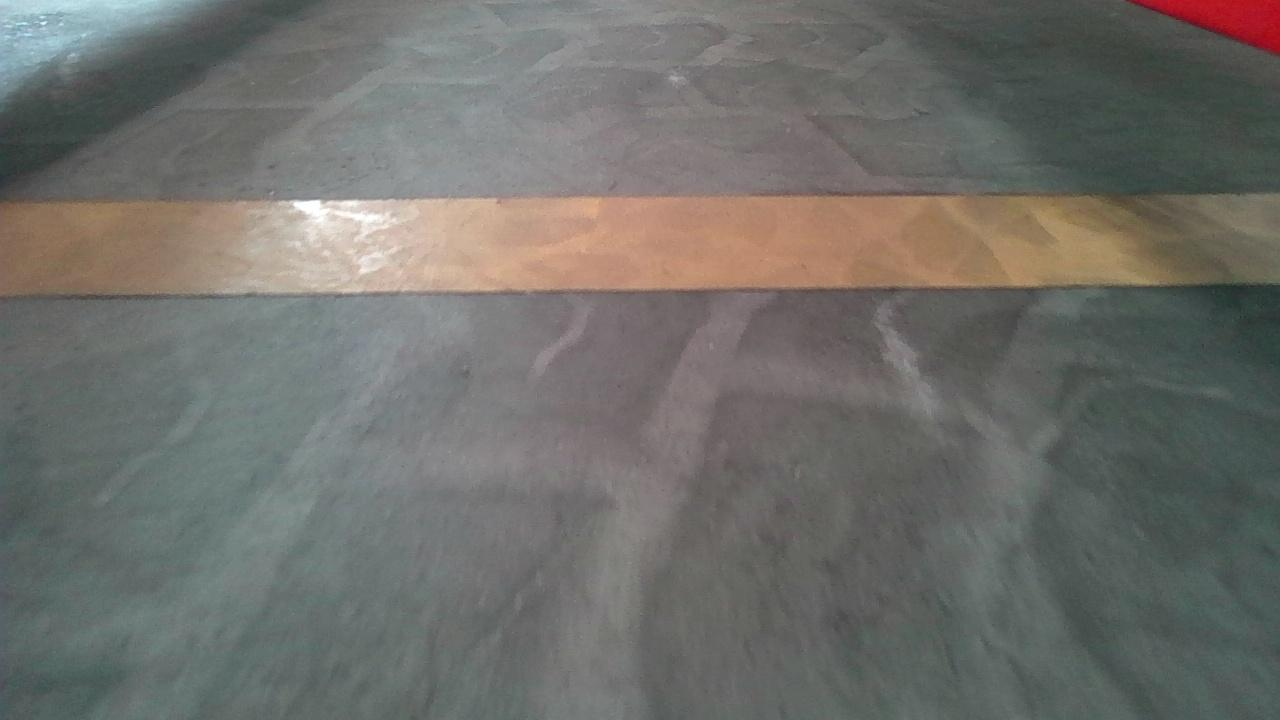yellow_line: (0, 185, 1274, 299)
